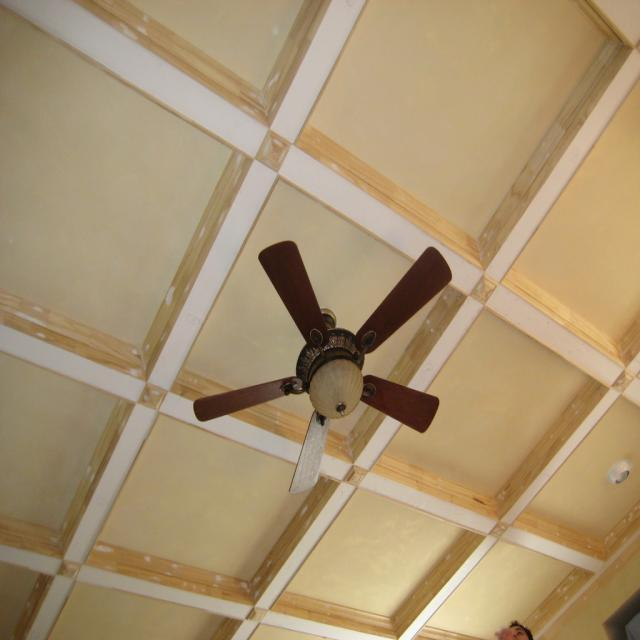fan_off: (187, 235, 439, 492)
